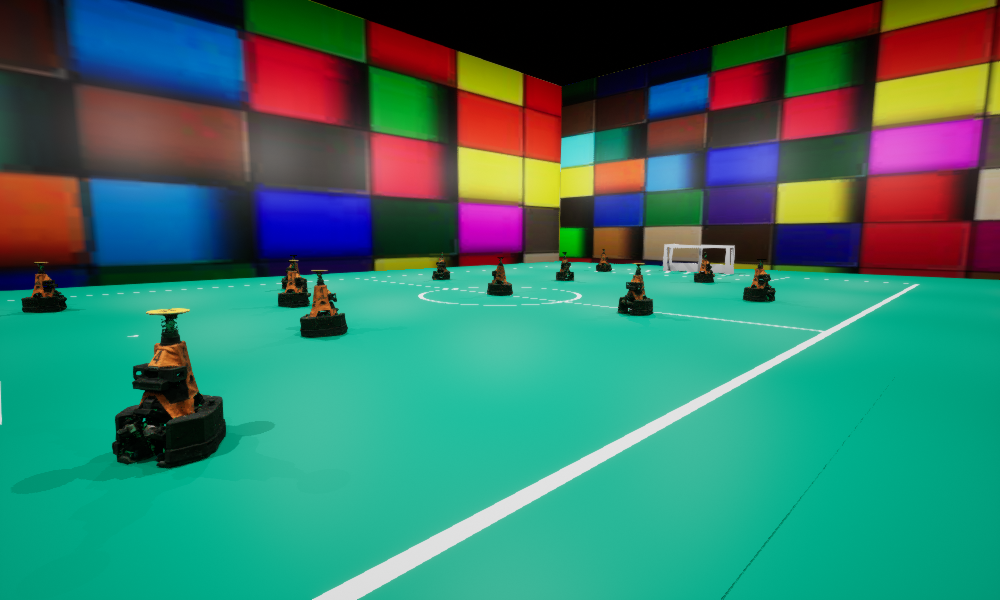o: (112, 308, 225, 466), (300, 270, 347, 337), (21, 262, 66, 312), (618, 263, 652, 315), (278, 260, 310, 307), (743, 259, 775, 301), (487, 257, 512, 295), (281, 255, 306, 289), (694, 252, 714, 282), (556, 252, 573, 280), (432, 252, 449, 279), (596, 249, 611, 271)
